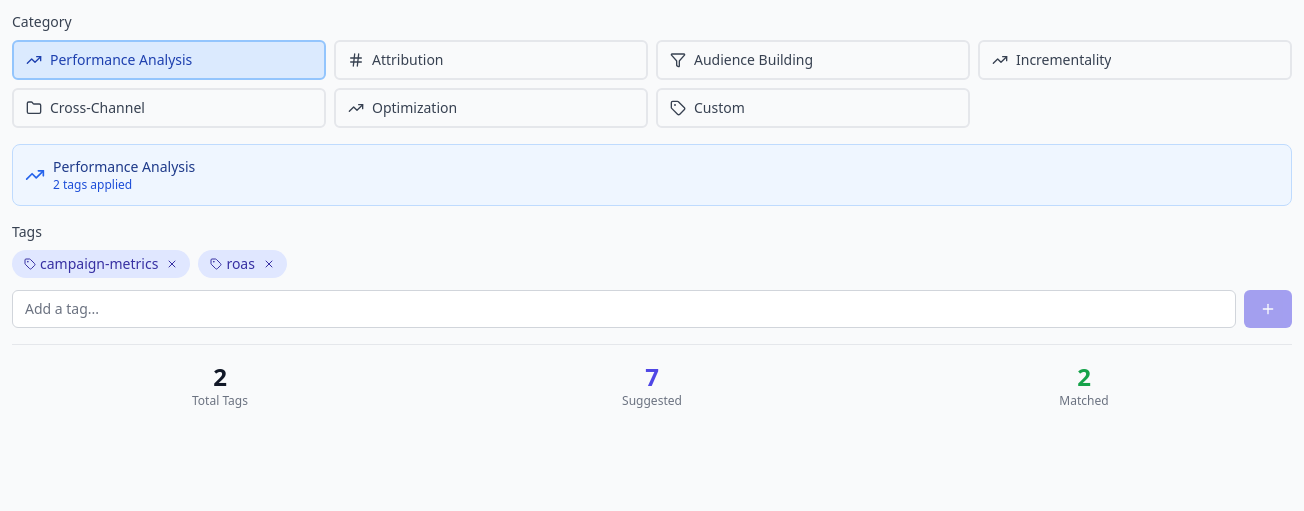
Test: TemplateTagsManager › Category selection › shows suggested tags for new category
Click the button "Attribution" at (408, 60), box [334,40,648,80]
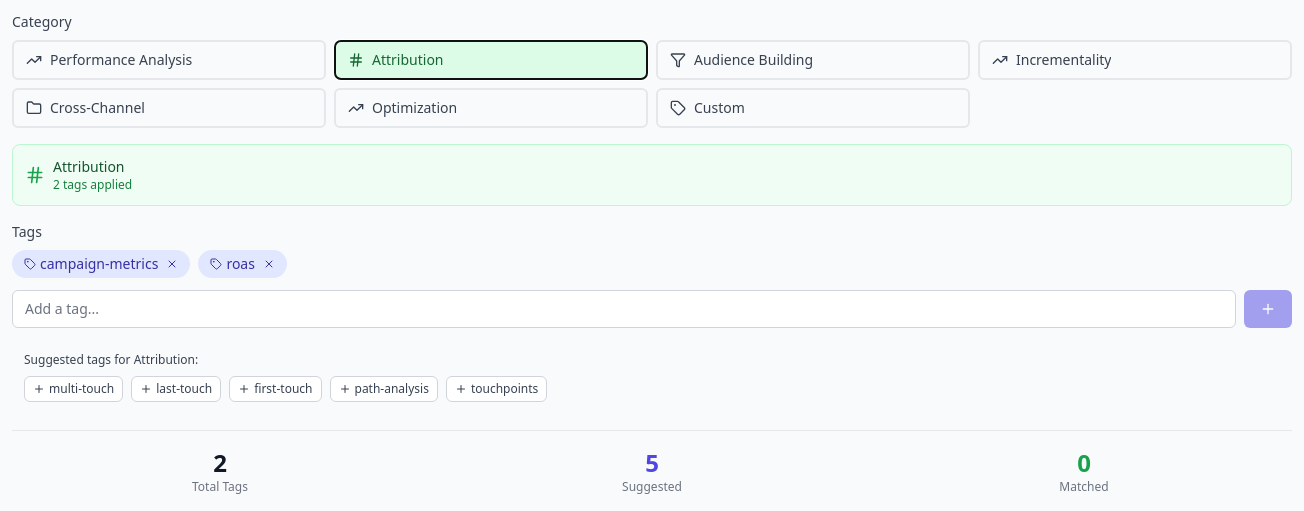
Expected: the button "multi-touch" is shown, [24,376,123,402]
Expected: the button "last-touch" is shown, [131,376,221,402]
